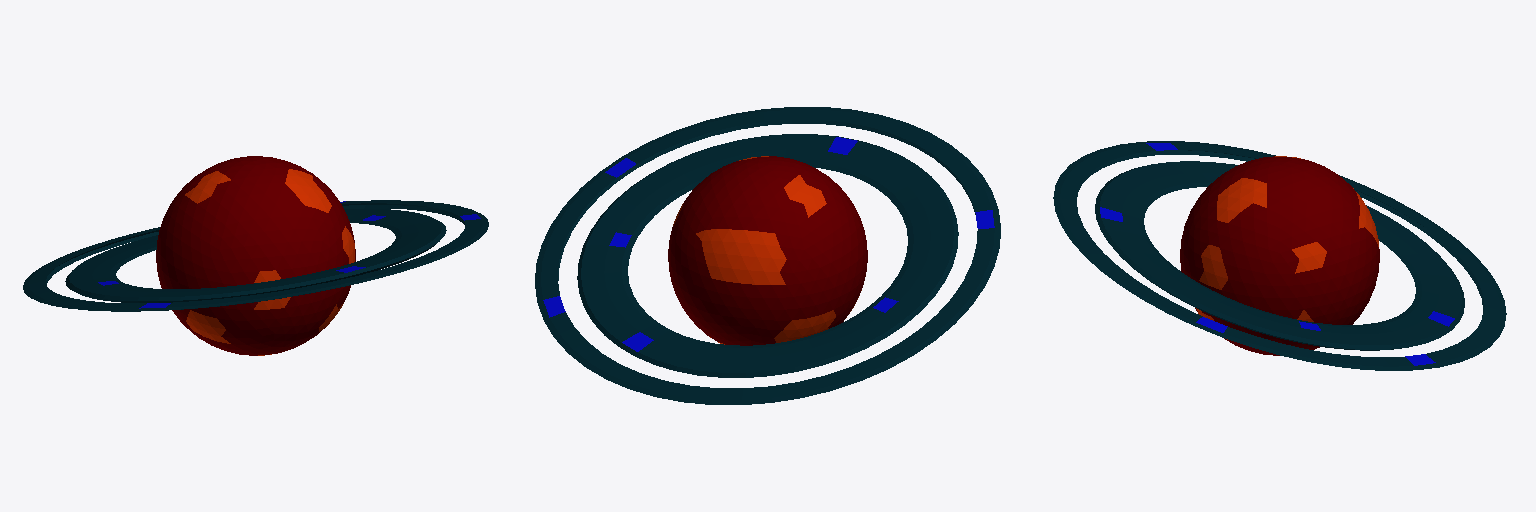
Rendered from Rhetoid.obj.
3 renders of one model, left to right at view 1: azimuth 30°, elevation 25°; view 2: azimuth 150°, elevation 25°; view 3: azimuth 270°, elevation 25°, orthographic.
Visible parts, largest first — view 1: Icosphere.005_Icosphere.001, Torus; view 2: Torus, Icosphere.005_Icosphere.001; view 3: Torus, Icosphere.005_Icosphere.001.
Part boxes in pixels (bbox=[...]): Icosphere.005_Icosphere.001: bbox=[156, 156, 355, 355]; Torus: bbox=[23, 200, 488, 311]; Torus: bbox=[535, 107, 1000, 404]; Icosphere.005_Icosphere.001: bbox=[668, 156, 867, 345]; Torus: bbox=[1053, 141, 1506, 370]; Icosphere.005_Icosphere.001: bbox=[1180, 156, 1379, 355].
Size of the model in its own units: 391 by 166 by 376.